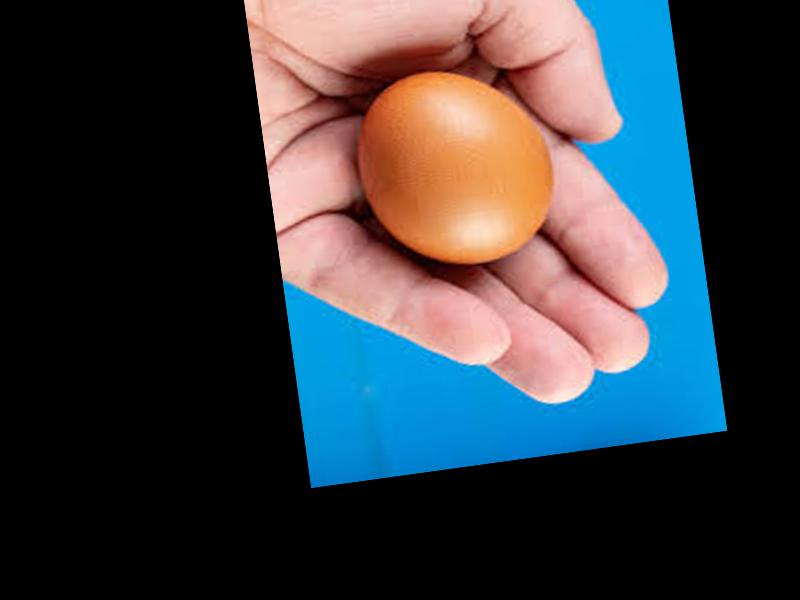Eggs: (352, 58, 563, 279)
